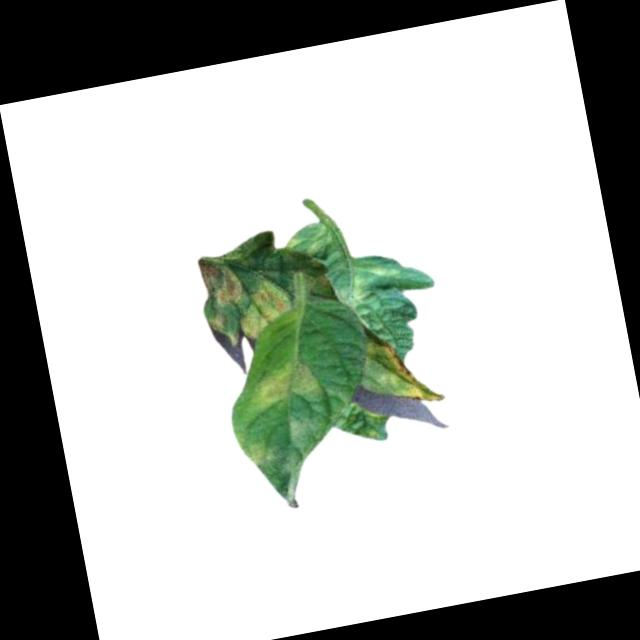Leaf_Mold: (196, 243, 297, 347), (360, 327, 448, 415), (327, 271, 381, 338), (257, 357, 322, 409)
